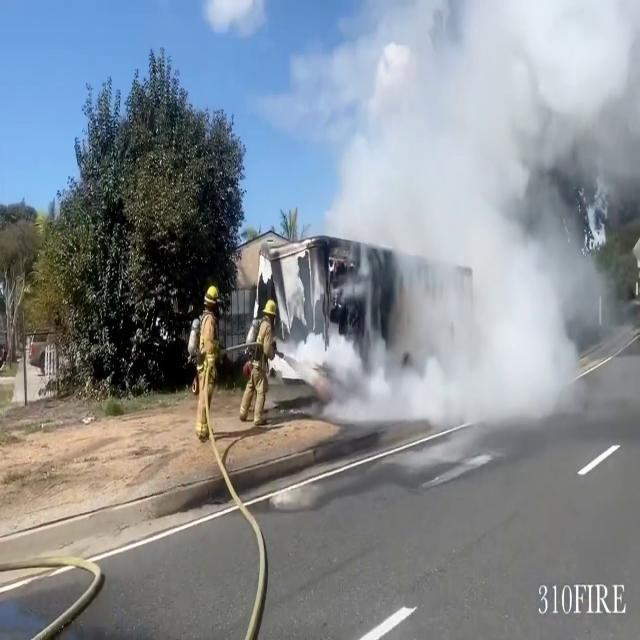Smoke: (314, 0, 638, 440)
